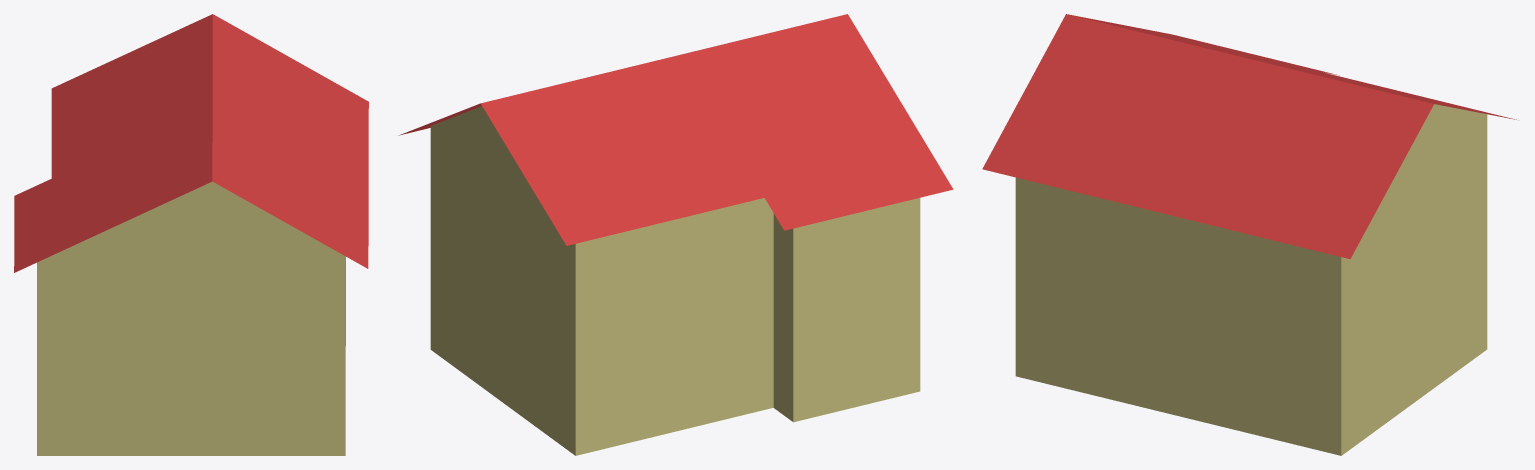
3 views of the same model, side by side, from view 1: azimuth 30°, elevation 25°; view 2: azimuth 150°, elevation 25°; view 3: azimuth 270°, elevation 25° (orthographic). The views are drawn at different scales.
Visible parts, largest first — view 1: group_5, group_3, group_4; view 2: group_5, group_3, group_4; view 3: group_5, group_3, group_4.
Boxes of the visible parts, <box> form: group_5: <box>37,181,345,455</box>; group_3: <box>14,15,368,268</box>; group_4: <box>14,14,368,272</box>; group_5: <box>430,106,920,455</box>; group_3: <box>399,14,919,230</box>; group_4: <box>407,15,953,245</box>; group_5: <box>1015,104,1487,455</box>; group_3: <box>982,14,1482,258</box>; group_4: <box>1057,14,1516,258</box>.
Size of the model in its own units: 16.54 by 16.44 by 10.26.
